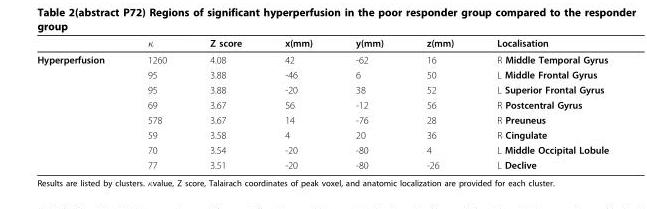table: (36, 36, 608, 170)
table column: (474, 36, 608, 170), (36, 36, 125, 170), (187, 36, 262, 170), (262, 36, 333, 170), (333, 36, 404, 170), (404, 36, 474, 170), (125, 36, 187, 170)
table column header: (36, 36, 608, 50)
table row: (36, 50, 608, 66), (36, 111, 608, 127), (36, 66, 608, 81), (36, 81, 608, 96), (36, 96, 608, 111), (36, 127, 608, 142), (36, 142, 608, 157), (36, 36, 608, 50), (36, 157, 608, 170)
table spanning cell: (36, 50, 125, 170)
